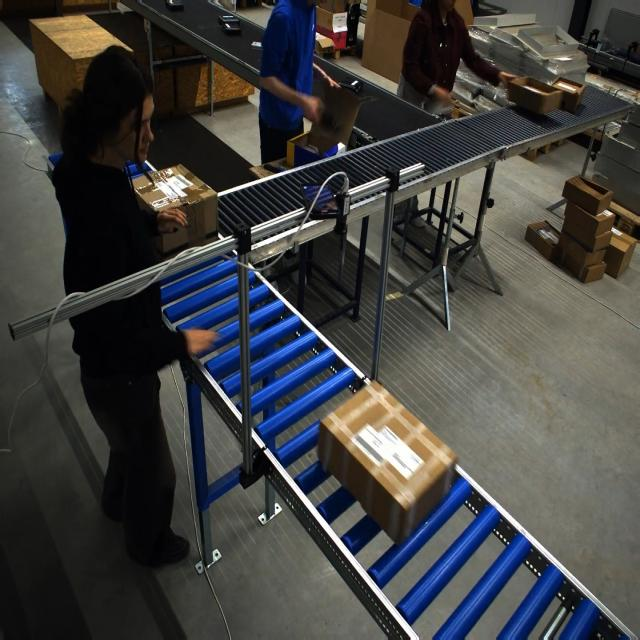box: (325, 396, 450, 538), (131, 164, 217, 254), (506, 75, 562, 116)
product: (339, 79, 362, 94), (221, 22, 242, 35), (218, 14, 240, 26), (164, 1, 184, 11), (251, 41, 262, 49)
